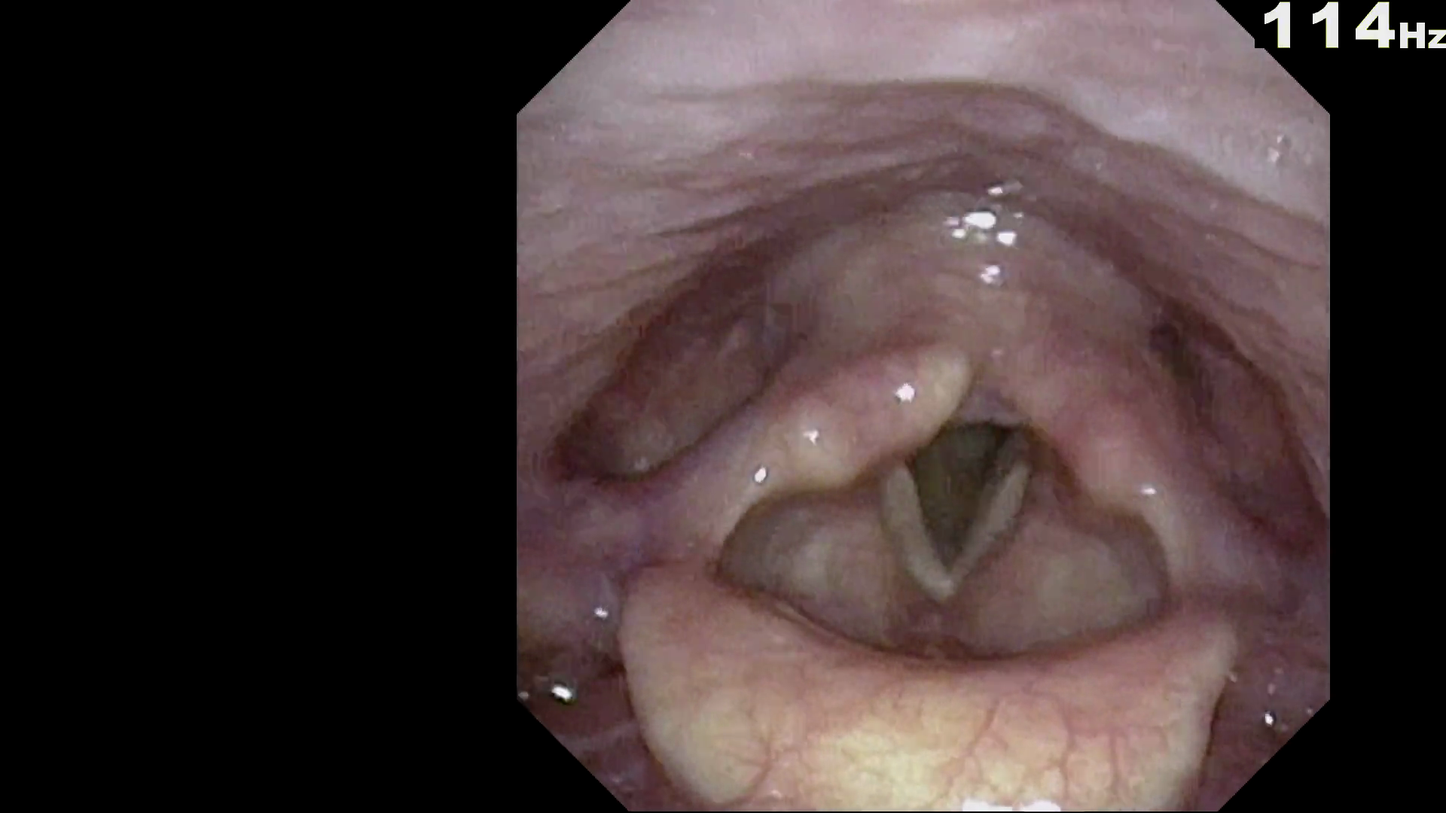epiglottis: (613, 503, 1234, 781)
trachea: (873, 363, 1052, 588)
